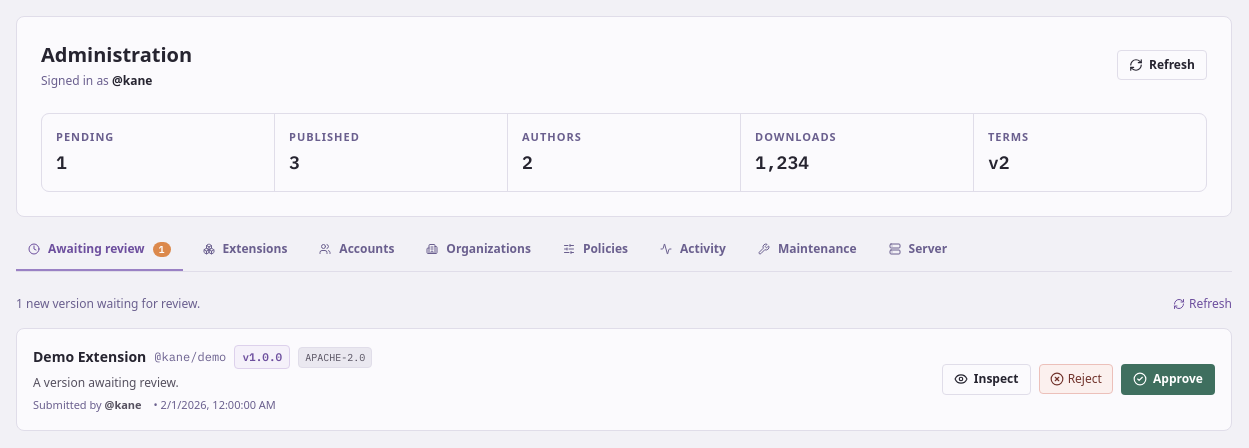
Test: AdminPage › lists accounts in the same shape as the organizations tab
Click the button "Accounts".
click(357, 256)  # box 307,241 -> 406,271
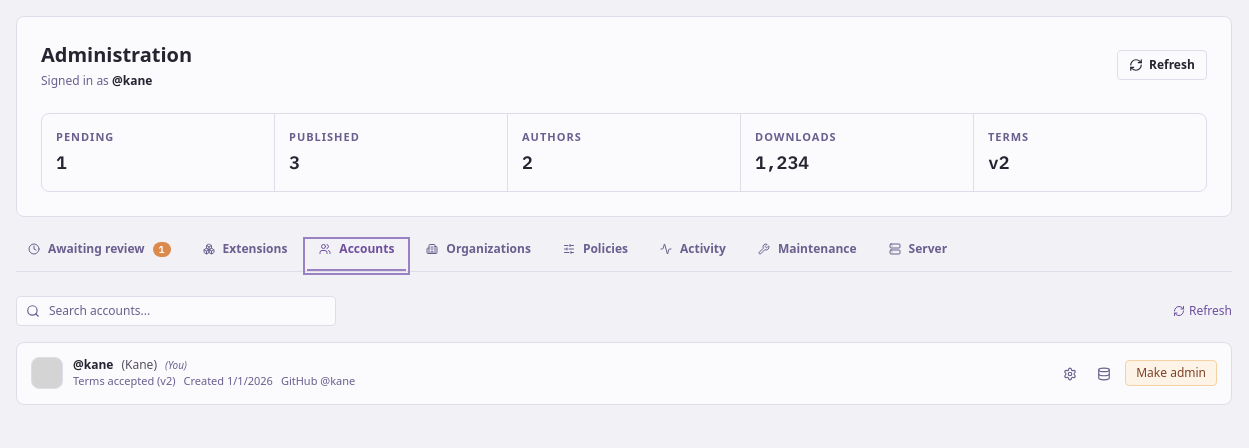
Expected: the text "(Kane)" is shown, 121,357 -> 157,373
Expected: the text "GitHub @kane" is shown, 281,373 -> 355,388
Expected: the text "Terms accepted (v2)" is shown, 73,373 -> 176,388
